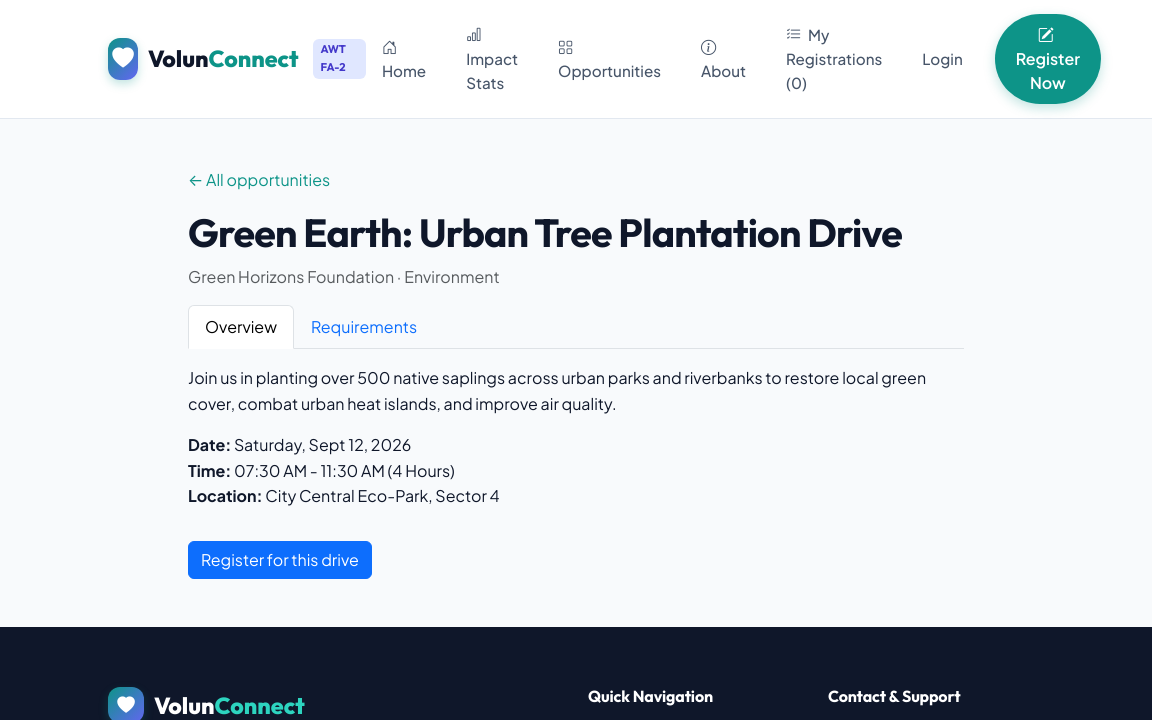
routing › nested routes: Overview and Requirements tabs, and 404
Check: the heading "Green Earth: Urban Tree Plantation Drive" is shown, box [188, 209, 964, 256]
Check: the text "Date:" is shown, box [188, 434, 231, 455]
Click the link "Requirements": [364, 327] box [311, 316, 417, 337]
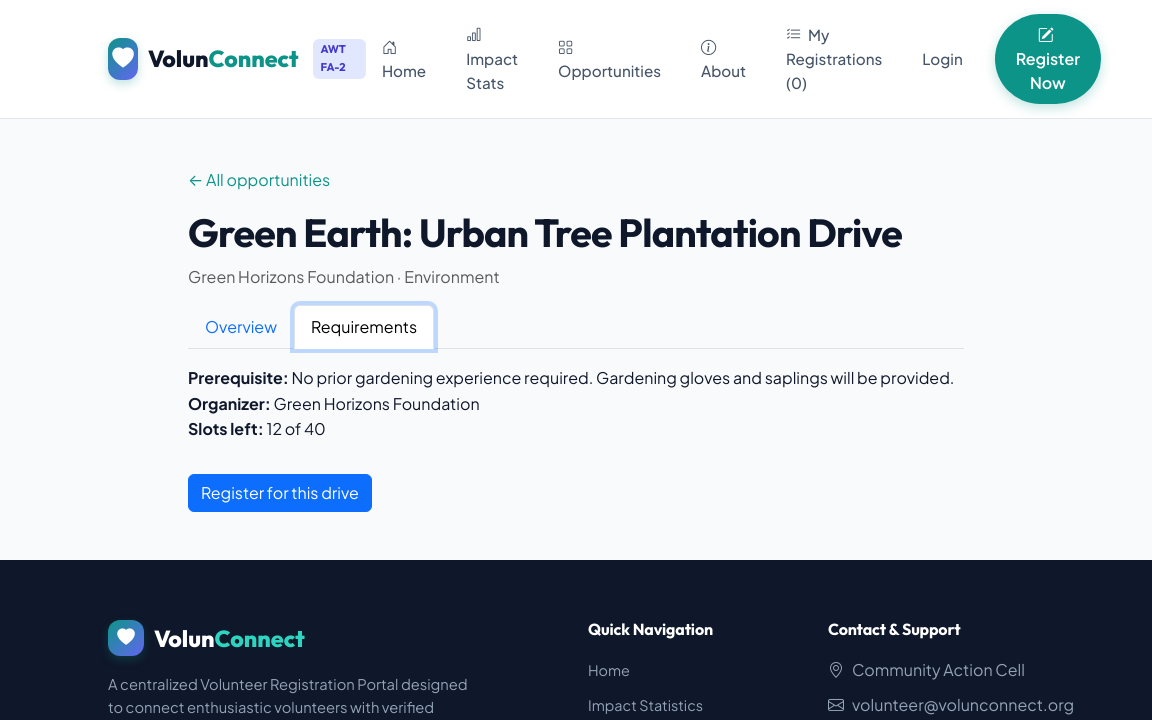
Check: the text "Prerequisite:" is shown, box [188, 367, 289, 388]
